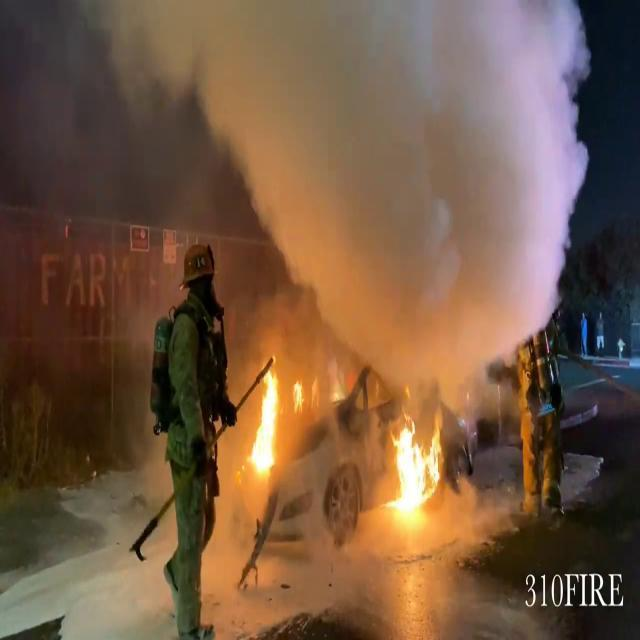Fire: (384, 410, 444, 522), (246, 356, 286, 479)
Smoke: (8, 0, 608, 398)
